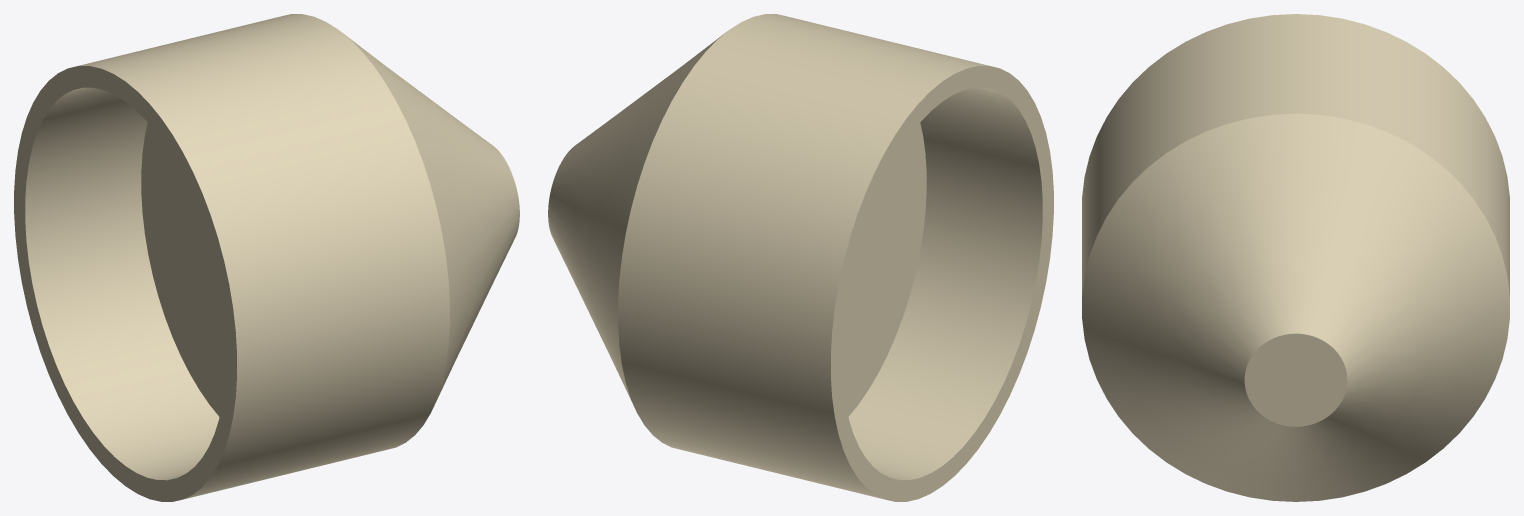
Rendered from ignition-coil-lead-coil-contact.glb.
3 renders of one model, left to right at view 1: azimuth 30°, elevation 25°; view 2: azimuth 150°, elevation 25°; view 3: azimuth 270°, elevation 25°, orthographic. The views are drawn at different scales.
Visible parts, largest first — view 1: world; view 2: world; view 3: world.
Part boxes in pixels (<box>): world: <box>14,14,519,501</box>; world: <box>548,14,1053,501</box>; world: <box>1082,14,1509,501</box>.
Size of the model in its own units: 0.0095 by 0.01 by 0.00999.
